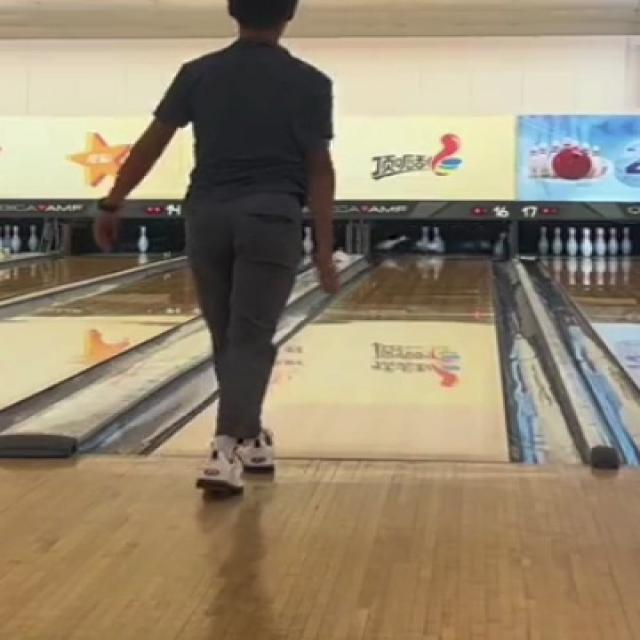alley: (263, 256, 505, 460)
balls: (476, 241, 493, 253)
bottle: (373, 223, 512, 259)
